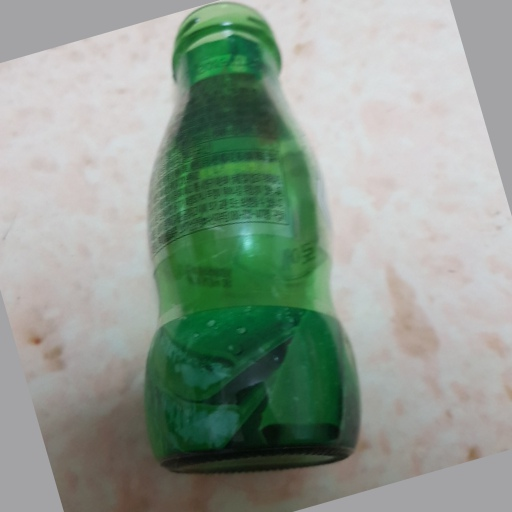Glass_4: (155, 2, 359, 467)
